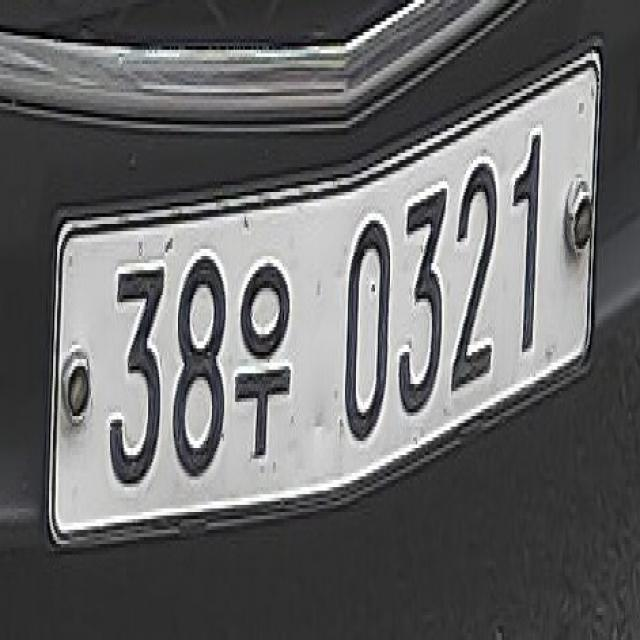0: (340, 210, 391, 441)
1: (512, 121, 541, 355)
2: (452, 153, 494, 391)
3: (111, 253, 166, 487), (401, 178, 447, 426)
8: (171, 249, 228, 480)
license_plate: (48, 46, 599, 548)
u: (232, 256, 294, 459)
